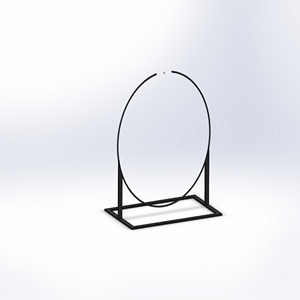circle: (104, 68, 224, 230)
